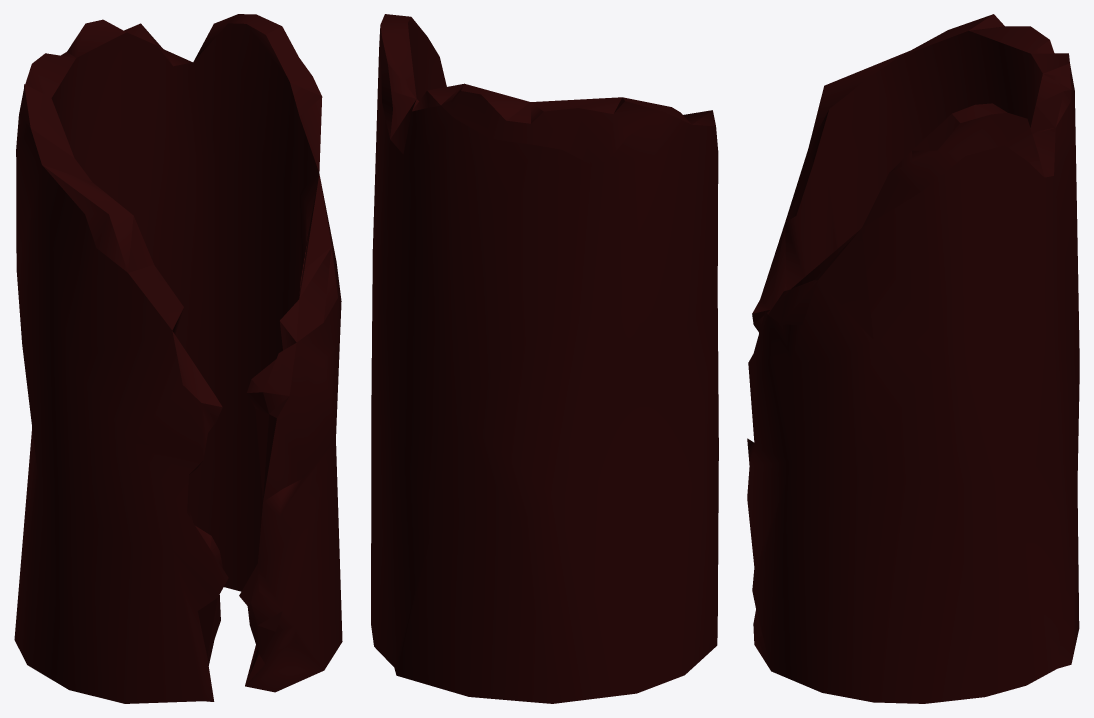
Rendered from UCX_Big_Castle_Tower_Empty.fbx.
3 views of the same model, side by side, from view 1: azimuth 30°, elevation 25°; view 2: azimuth 150°, elevation 25°; view 3: azimuth 270°, elevation 25° (orthographic). The views are drawn at different scales.
Parts seen in each view (by area): view 1: UCX_Big_Castle_Tower_Empty; view 2: UCX_Big_Castle_Tower_Empty; view 3: UCX_Big_Castle_Tower_Empty.
Part boxes in pixels (x1,y1,x2,y2): UCX_Big_Castle_Tower_Empty: (14,14,342,703); UCX_Big_Castle_Tower_Empty: (371,14,718,703); UCX_Big_Castle_Tower_Empty: (747,14,1079,703).
Bounding box in the file's own units: 1097 × 2112 × 1095.
